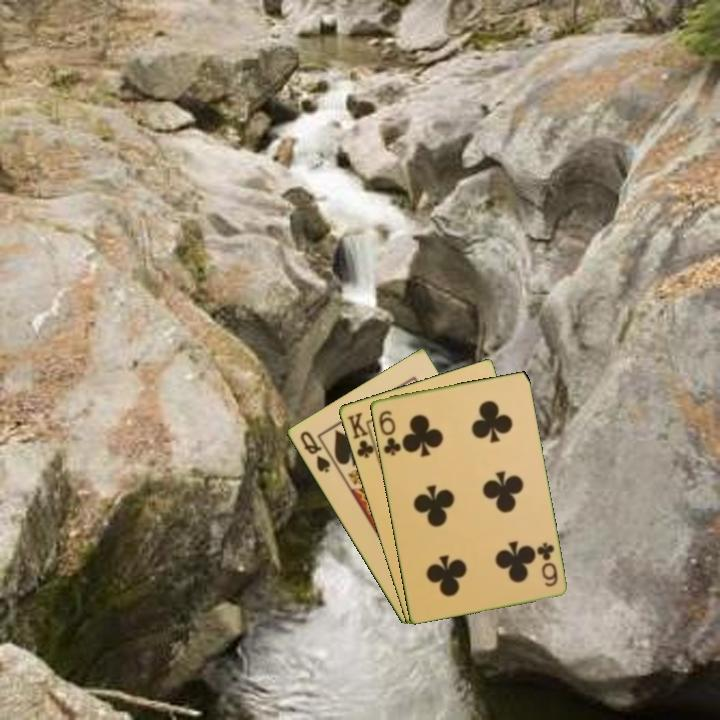6c: (375, 406, 404, 458), (533, 539, 560, 589)
Kc: (343, 408, 380, 461)
Qs: (296, 427, 333, 476)
